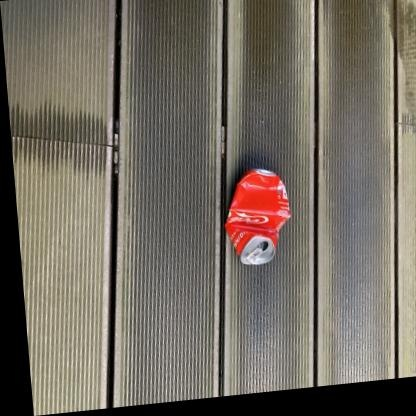trash: (225, 169, 290, 264)
